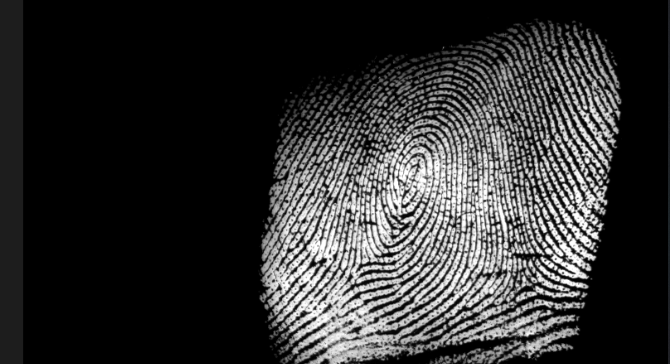nucelo: (400, 155, 426, 210)
verticilo: (508, 267, 541, 301), (343, 250, 367, 276)
